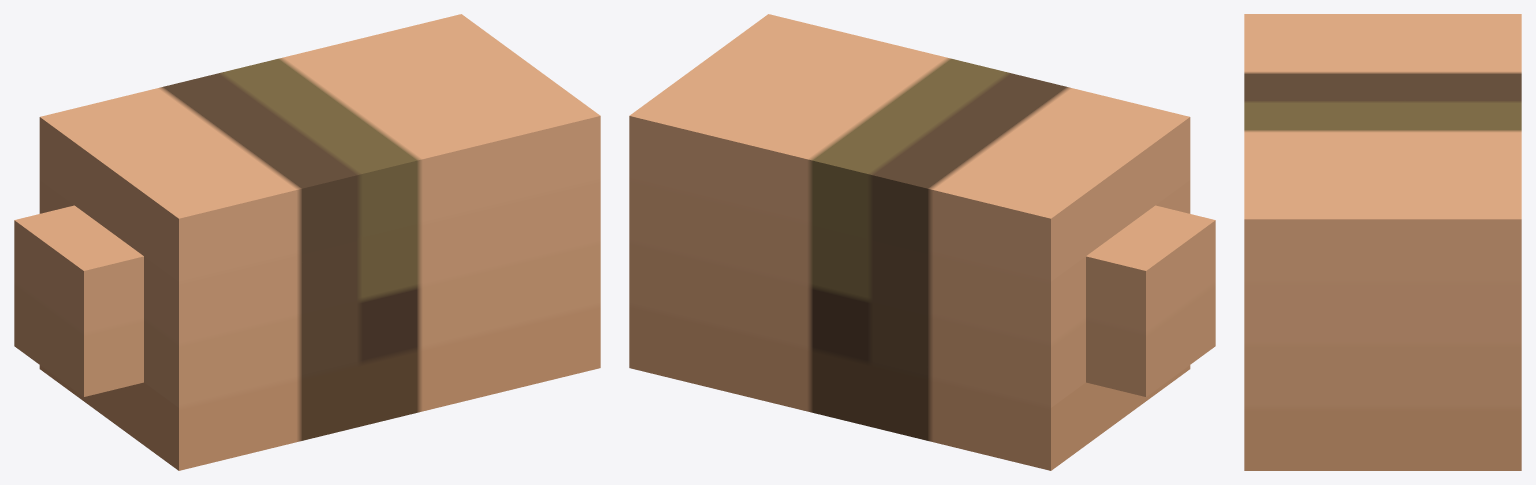
Rendered from Shoulder005.fbx.
The picture shows the model from 3 angles, left to right: view 1: azimuth 30°, elevation 25°; view 2: azimuth 150°, elevation 25°; view 3: azimuth 270°, elevation 25°; orthographic projection.
Visible parts, largest first — view 1: Shoulder005; view 2: Shoulder005; view 3: Shoulder005.
Boxes of the visible parts, bbox=[...] form: Shoulder005: bbox=[14, 14, 600, 470]; Shoulder005: bbox=[629, 14, 1215, 470]; Shoulder005: bbox=[1244, 14, 1521, 470].
Bounding box in the file's own units: 8 × 4 × 4.
